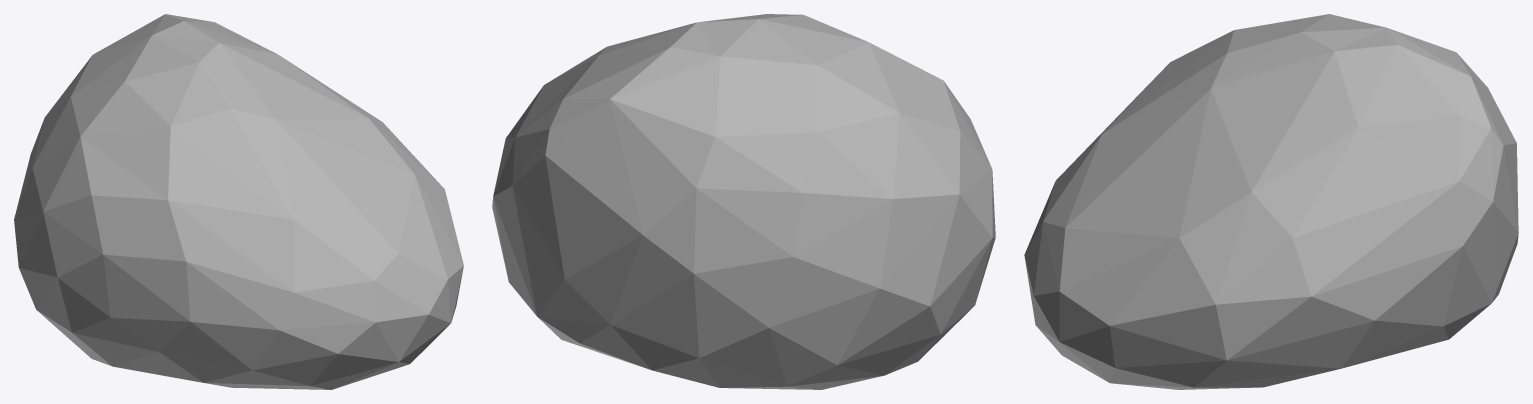
The model's file is pedra02.fbx.
The picture shows the model from 3 angles, left to right: view 1: azimuth 30°, elevation 25°; view 2: azimuth 150°, elevation 25°; view 3: azimuth 270°, elevation 25°; orthographic projection. The views are drawn at different scales.
Parts seen in each view (by area): view 1: Esfera icosaédrica.007; view 2: Esfera icosaédrica.007; view 3: Esfera icosaédrica.007.
Part boxes in pixels (left/top/right/bottom): Esfera icosaédrica.007: left=14, top=14, right=463, bottom=389; Esfera icosaédrica.007: left=492, top=14, right=995, bottom=389; Esfera icosaédrica.007: left=1024, top=14, right=1518, bottom=389.
Size of the model in its own units: 223 by 153 by 232.
1 material, 1 textured.
